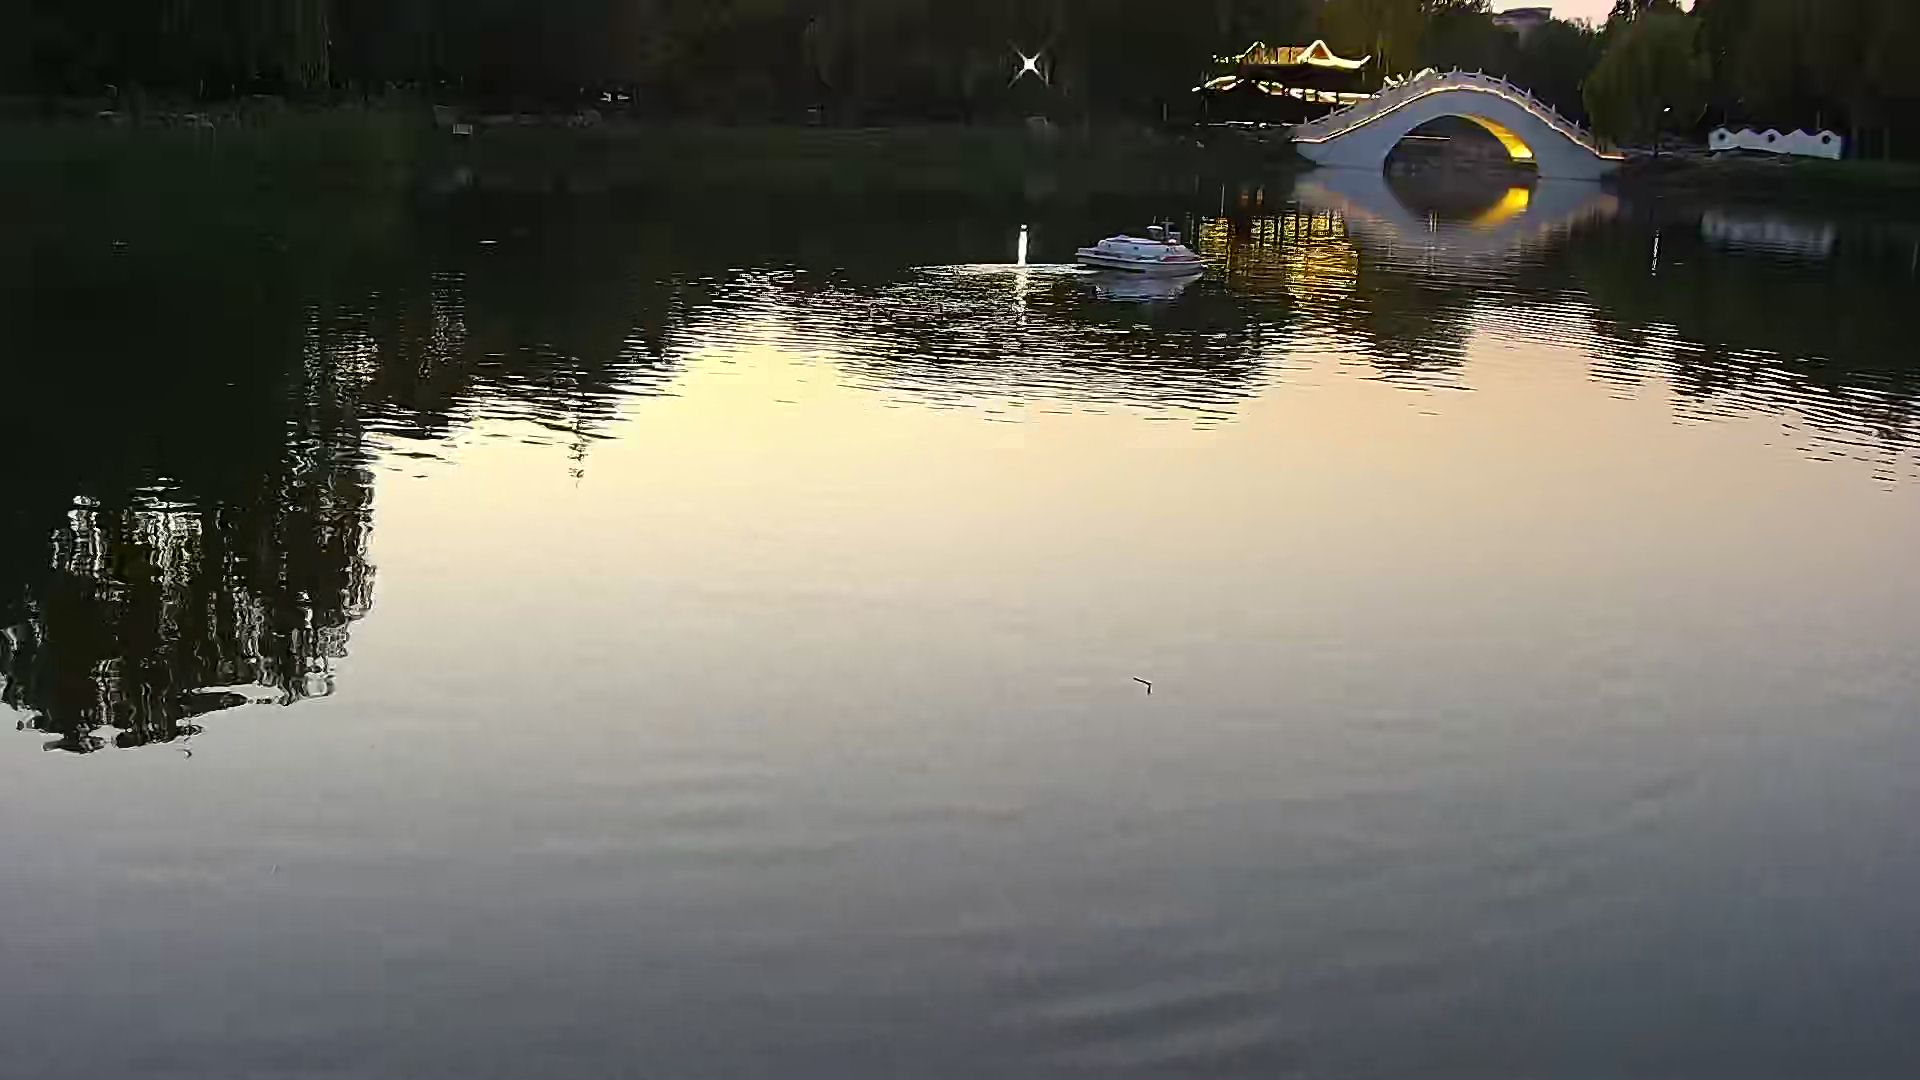boat: (1069, 215, 1213, 278)
bridge: (1295, 74, 1617, 175)
